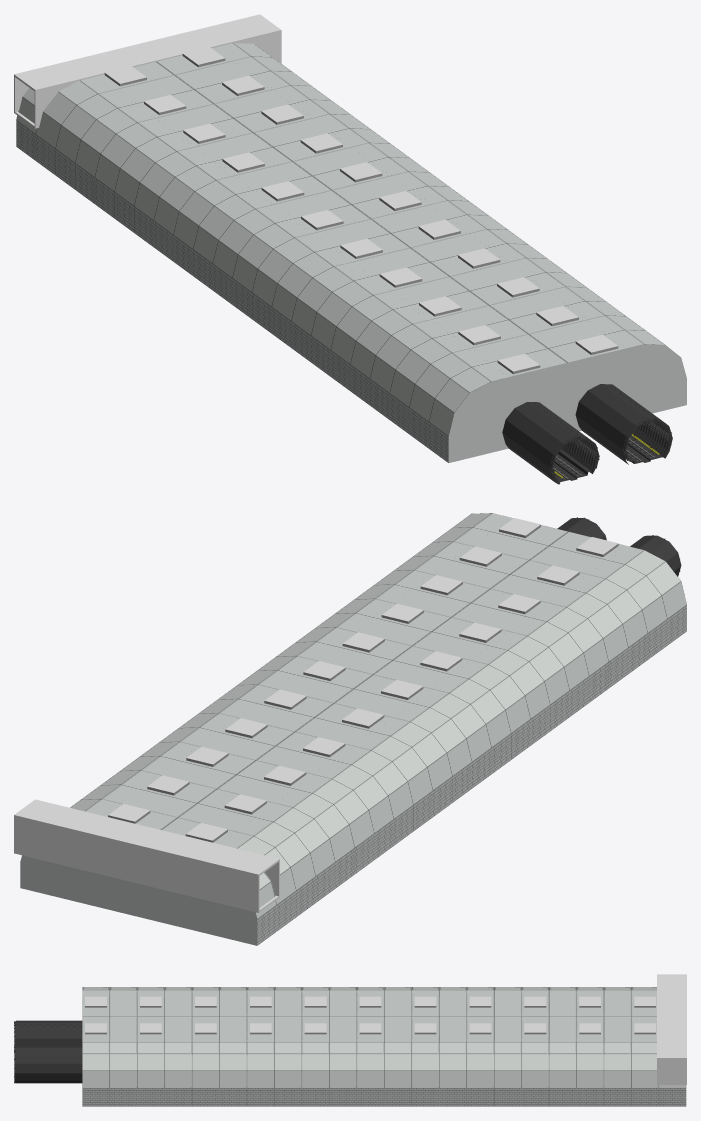
File: depo.fbx
3 renders of one model, top to bottom at view 1: azimuth 30°, elevation 25°; view 2: azimuth 150°, elevation 25°; view 3: azimuth 270°, elevation 25°, orthographic. The views are drawn at different scales.
Parts seen in each view (by area): view 1: Depo, Tunnel, Куб; view 2: Depo, Куб, Tunnel; view 3: Depo, Tunnel, Куб.
Boxes of the visible parts, bbox=[...] form: Depo: bbox=[16, 43, 686, 462]; Tunnel: bbox=[502, 384, 672, 484]; Куб: bbox=[14, 14, 281, 128]; Depo: bbox=[20, 513, 686, 945]; Куб: bbox=[14, 799, 279, 912]; Tunnel: bbox=[557, 517, 681, 576]; Depo: bbox=[82, 987, 686, 1106]; Tunnel: bbox=[14, 1020, 82, 1083]; Куб: bbox=[657, 974, 686, 1084].
Bounding box in the file's own units: 28.91 × 8.43 × 98.03.
